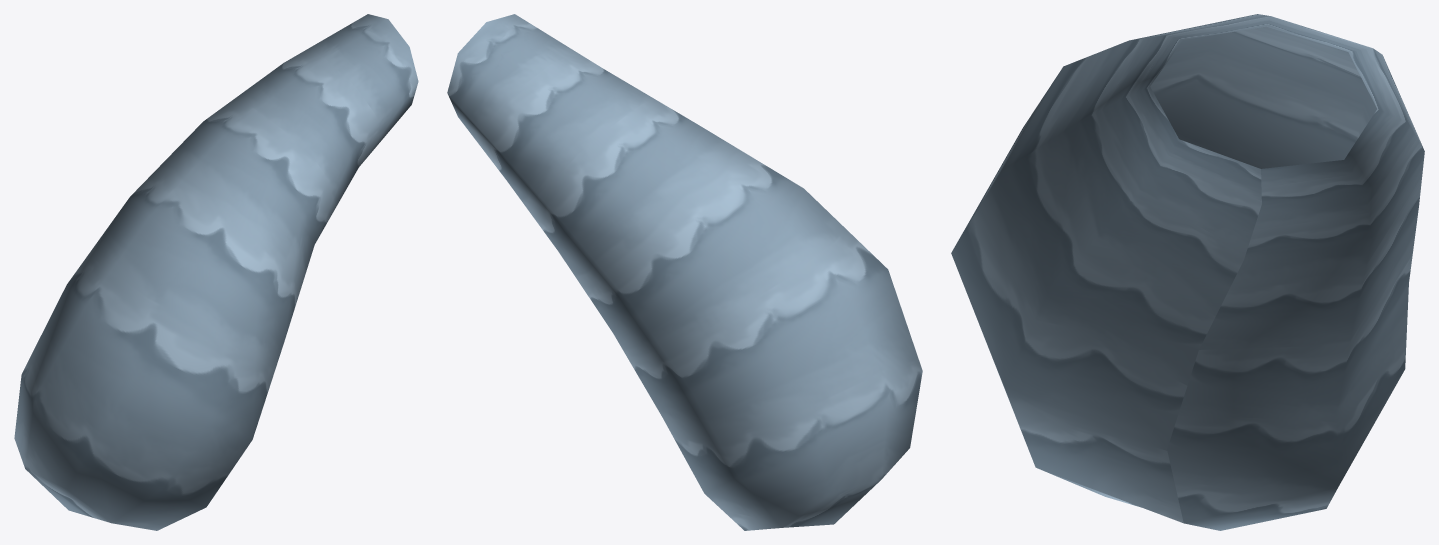
File: ArmR.fbx
The picture shows the model from 3 angles, left to right: view 1: azimuth 30°, elevation 25°; view 2: azimuth 150°, elevation 25°; view 3: azimuth 270°, elevation 25°; orthographic projection. The views are drawn at different scales.
Visible parts, largest first — view 1: ArmsR; view 2: ArmsR; view 3: ArmsR.
Boxes of the visible parts, <box> form: ArmsR: <box>14,14,418,530</box>; ArmsR: <box>447,14,922,530</box>; ArmsR: <box>951,14,1424,530</box>.
Bounding box in the file's own units: 88.88 × 95.61 × 56.45.
